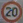20 km speed: (1, 1, 22, 23)
